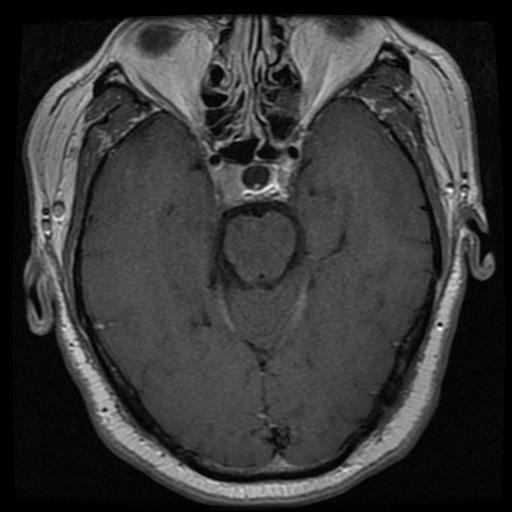Tumour-Pituitary: (207, 142, 309, 213)
